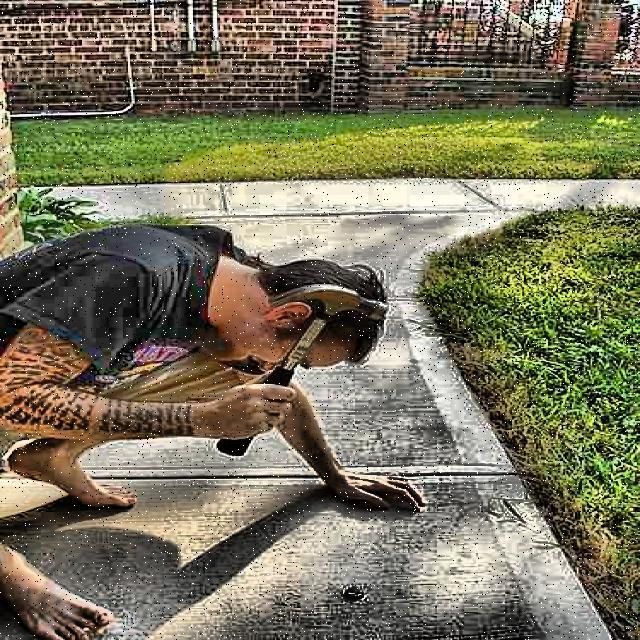hammer: (198, 285, 388, 458)
